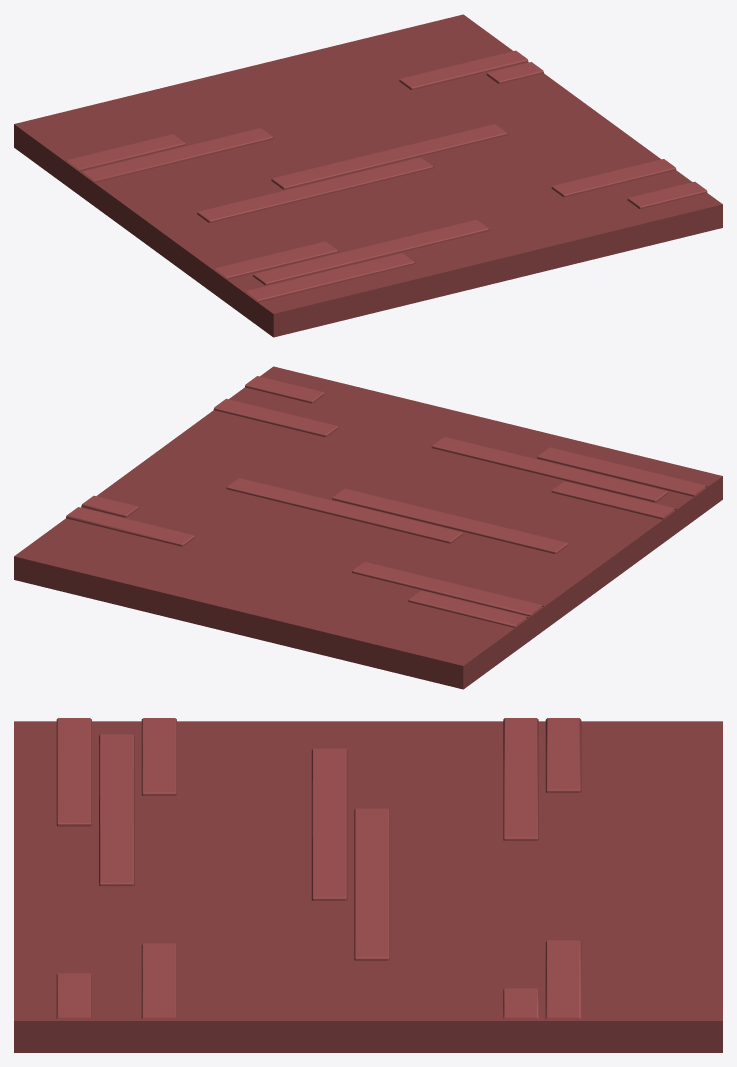
Rendered from Floor1A.fbx.
The picture shows the model from 3 angles, top to bottom: view 1: azimuth 30°, elevation 25°; view 2: azimuth 150°, elevation 25°; view 3: azimuth 270°, elevation 25°; orthographic projection. The views are drawn at different scales.
Parts seen in each view (by area): view 1: Floor1A; view 2: Floor1A; view 3: Floor1A.
Boxes of the visible parts, x1,y1,x2,y2 form: Floor1A: (14, 14, 722, 337); Floor1A: (14, 366, 722, 689); Floor1A: (14, 718, 722, 1052).
Bounding box in the file's own units: 2.6 × 0.143 × 2.6.
